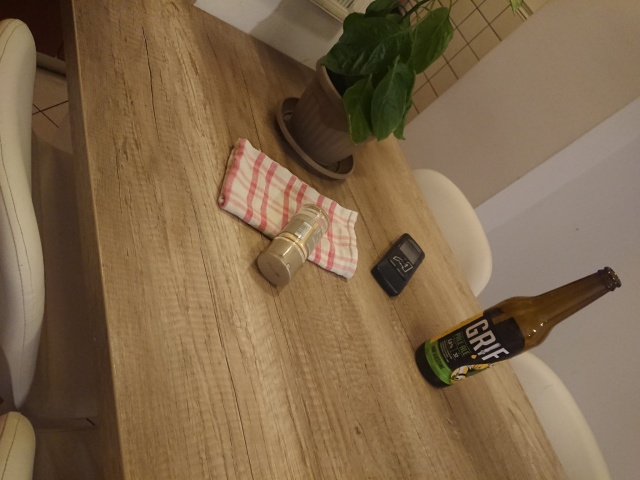Kotanyi Garlic Granules 70g: (255, 201, 332, 288)
